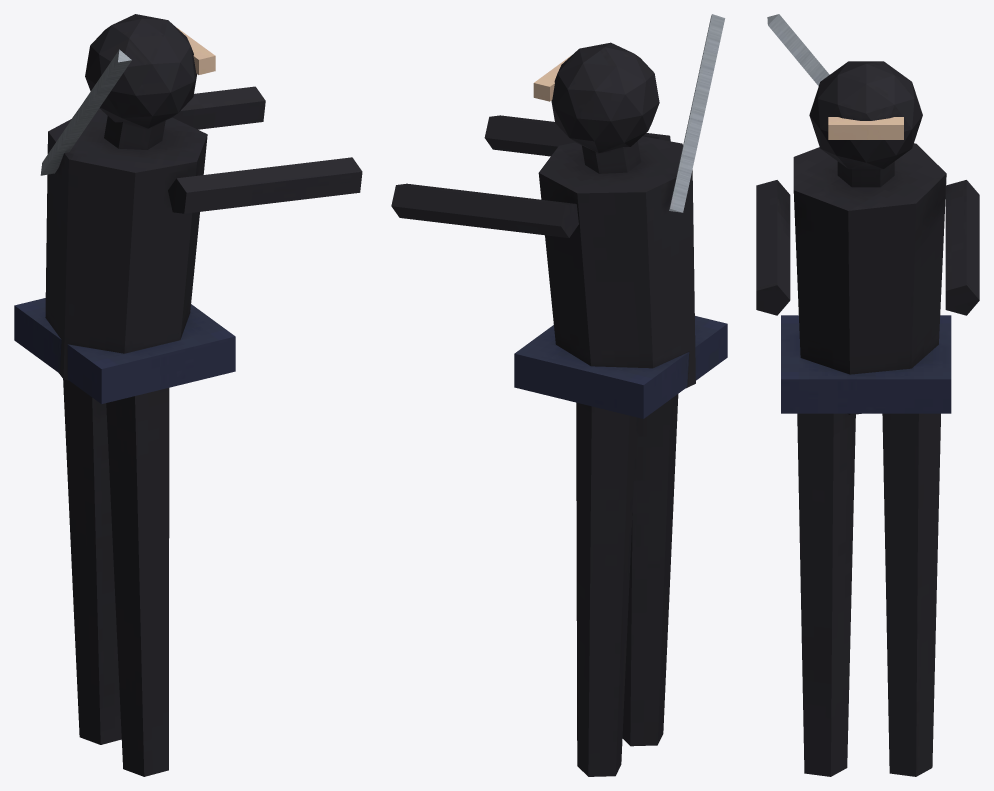
The model's file is ninja_tex.glb.
3 views of the same model, side by side, from view 1: azimuth 30°, elevation 25°; view 2: azimuth 150°, elevation 25°; view 3: azimuth 270°, elevation 25° (orthographic). The views are drawn at different scales.
Parts seen in each view (by area): view 1: Kropp, BenH, BenV, ArmH, ArmV; view 2: Kropp, BenV, BenH, ArmV, ArmH; view 3: Kropp, BenV, BenH, ArmV, ArmH.
Boxes of the visible parts, x1,y1,x2,y2 form: Kropp: (14, 14, 235, 404); BenH: (106, 388, 169, 776); BenV: (63, 379, 121, 744); ArmH: (168, 157, 362, 213); ArmV: (72, 86, 265, 129); Kropp: (514, 14, 727, 418); BenV: (576, 402, 636, 776); BenH: (622, 394, 678, 746); ArmV: (391, 183, 578, 237); ArmH: (484, 115, 670, 156); Kropp: (767, 14, 951, 414); BenV: (882, 413, 940, 776); BenH: (797, 413, 855, 776); ArmV: (945, 180, 979, 315); ArmH: (756, 180, 790, 315).
Bounding box in the file's own units: 0.612 × 1.7 × 0.4724.
4 materials, 4 textured.
